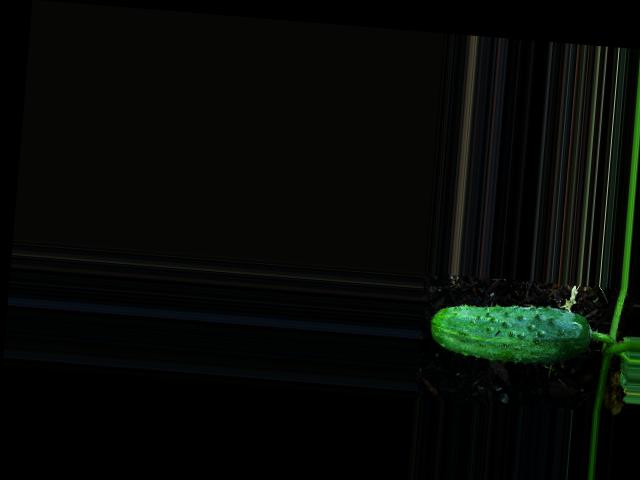cucumber: (426, 297, 593, 369)
